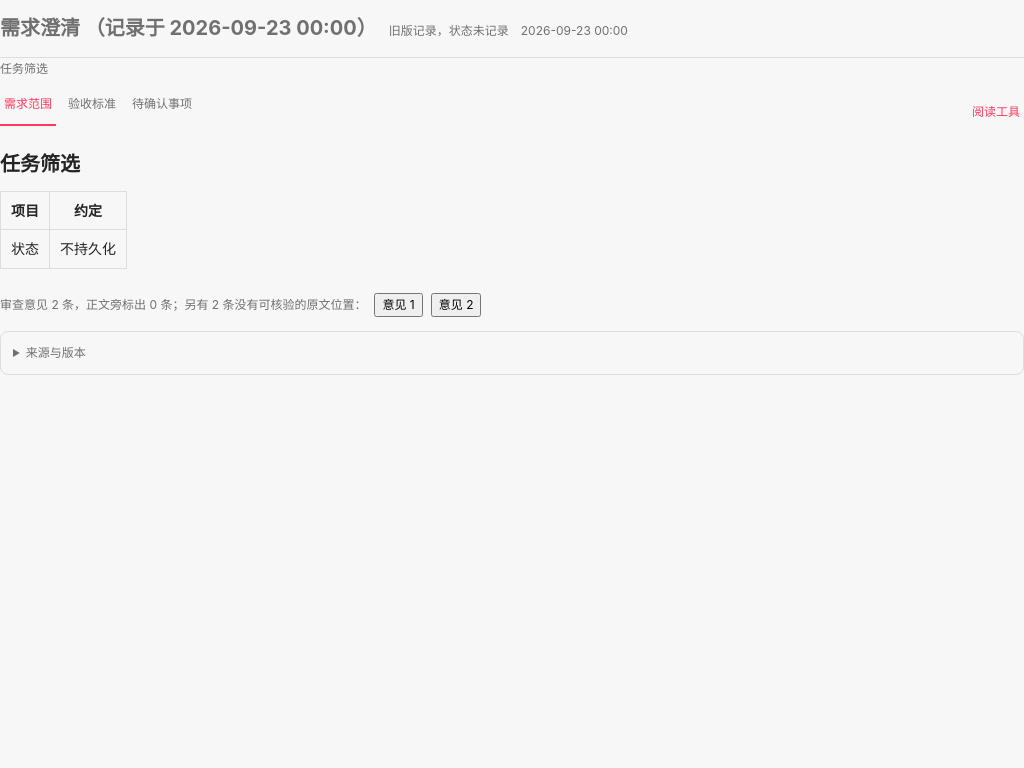
keeps cross-block, stale and invalid citations reachable without inventing inline locations
Expected: the element with test id "review-reference-summary" shows "正文旁标出 0 条；另有 2 条没有可核验的原文位置", [0,297,366,312]
Expected: the button "审查意见 1" is not shown
What coordinates should you click on to do the following:
click the button with aria-label "审查意见 1（未定位）"
I would click on:
 (399, 305)
Its box is [374,293,423,317].
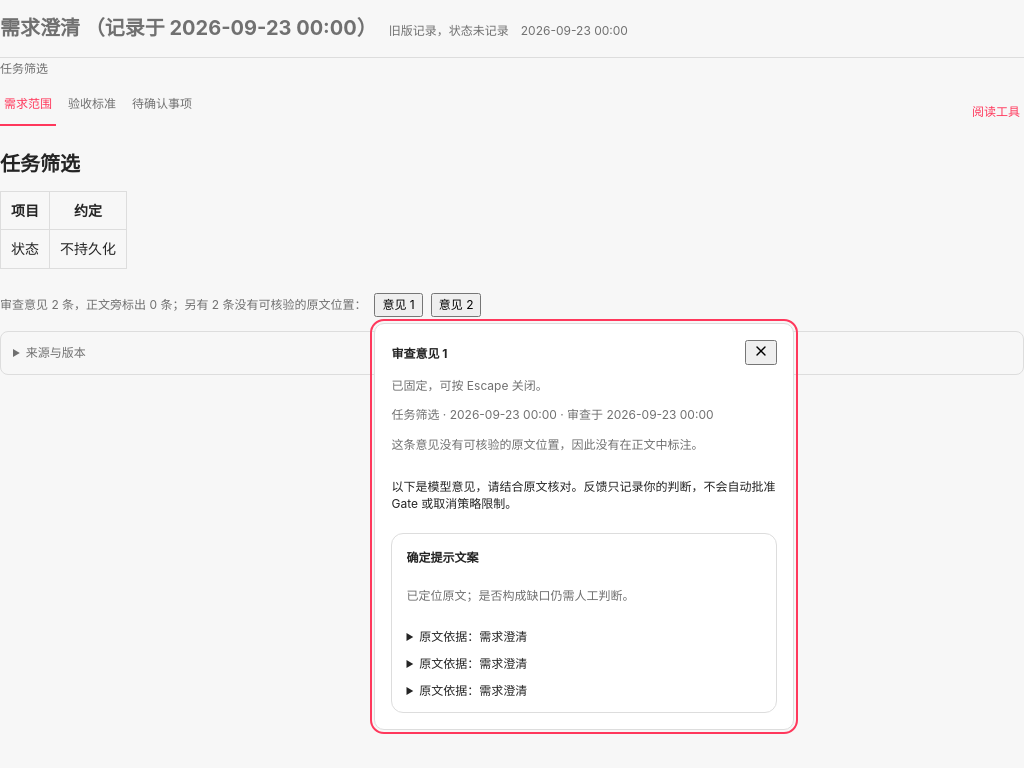
Expected: the dialog "审查意见 1" shows "确定提示文案", [406,550,478,565]
